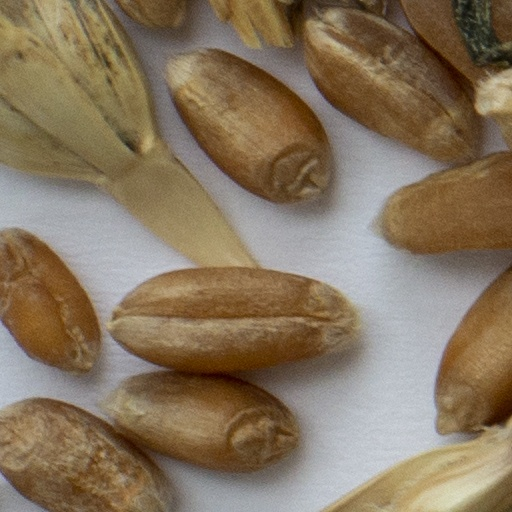Peel-poly: (323, 420, 511, 511)
